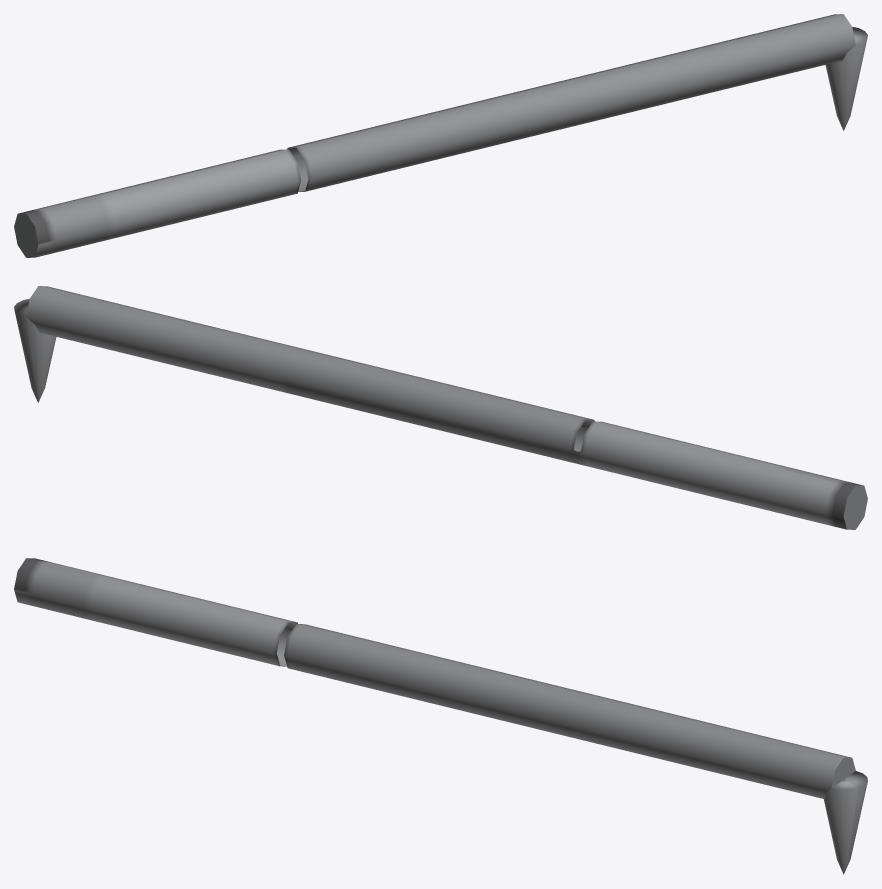
The picture shows the model from 3 angles, top to bottom: view 1: azimuth 30°, elevation 25°; view 2: azimuth 150°, elevation 25°; view 3: azimuth 330°, elevation 25°; orthographic projection.
Bounding box in the file's own units: 0.2548 × 0.034 × 0.0129.
